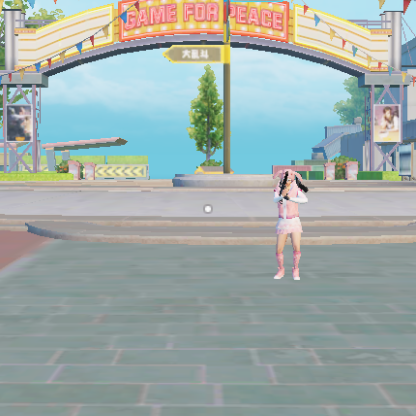ren: (275, 168, 306, 282), (375, 107, 398, 136)
tou: (278, 168, 301, 188), (383, 108, 397, 121)
